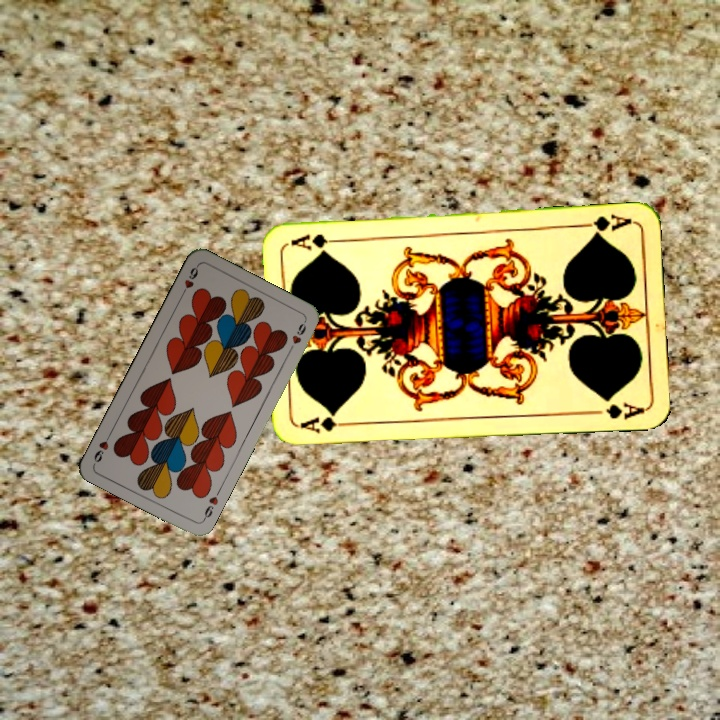GA: (575, 210, 634, 238), (296, 412, 355, 436)
H9: (177, 262, 201, 300), (199, 492, 221, 523)
